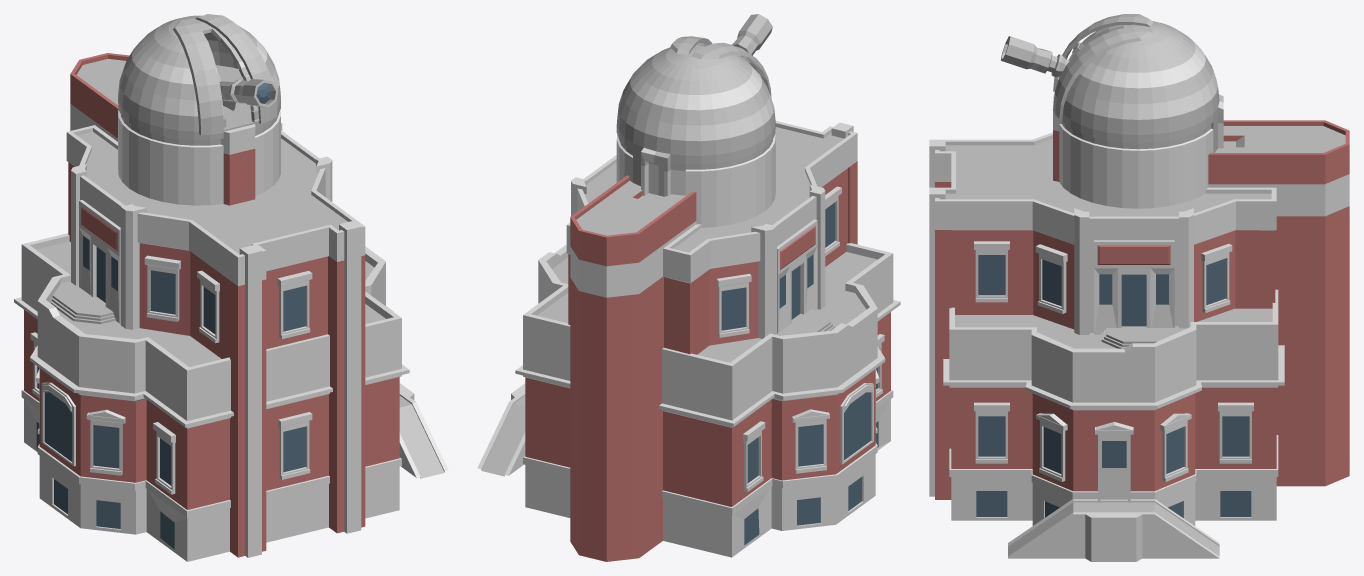
Rendered from Observatory.fbx.
3 views of the same model, side by side, from view 1: azimuth 30°, elevation 25°; view 2: azimuth 150°, elevation 25°; view 3: azimuth 270°, elevation 25° (orthographic). The views are drawn at different scales.
Visible parts, largest first — view 1: lower block.001; view 2: lower block.001; view 3: lower block.001.
Part boxes in pixels (x1,y1,x2,y2): lower block.001: [14, 14, 448, 561]; lower block.001: [477, 14, 900, 561]; lower block.001: [929, 14, 1349, 561].
Bounding box in the file's own units: 497 × 606 × 517.
